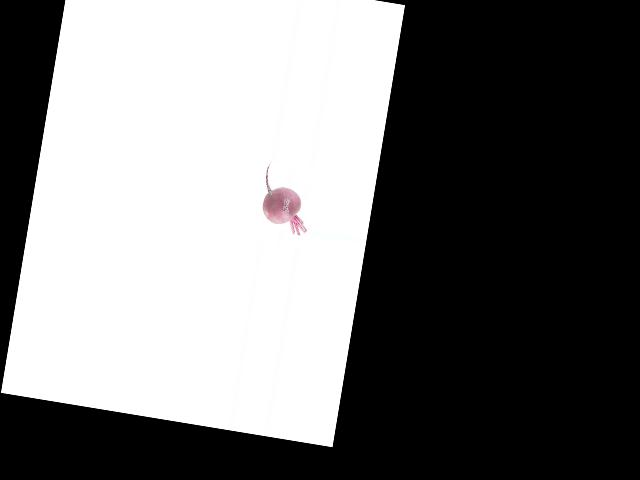beet: (257, 161, 316, 236)
